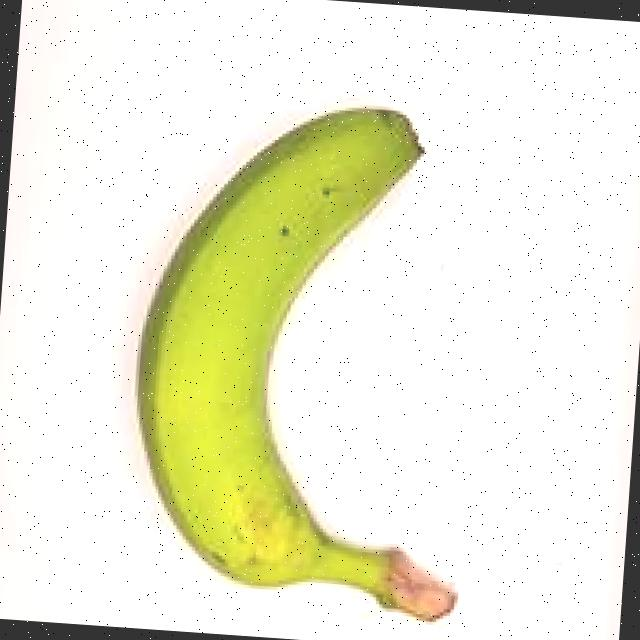Unripe: (60, 59, 517, 640)
